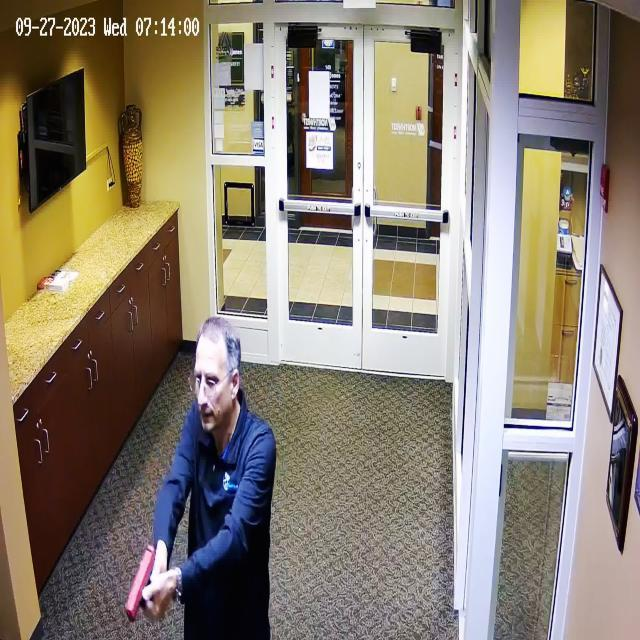Gun: (103, 532, 174, 618)
